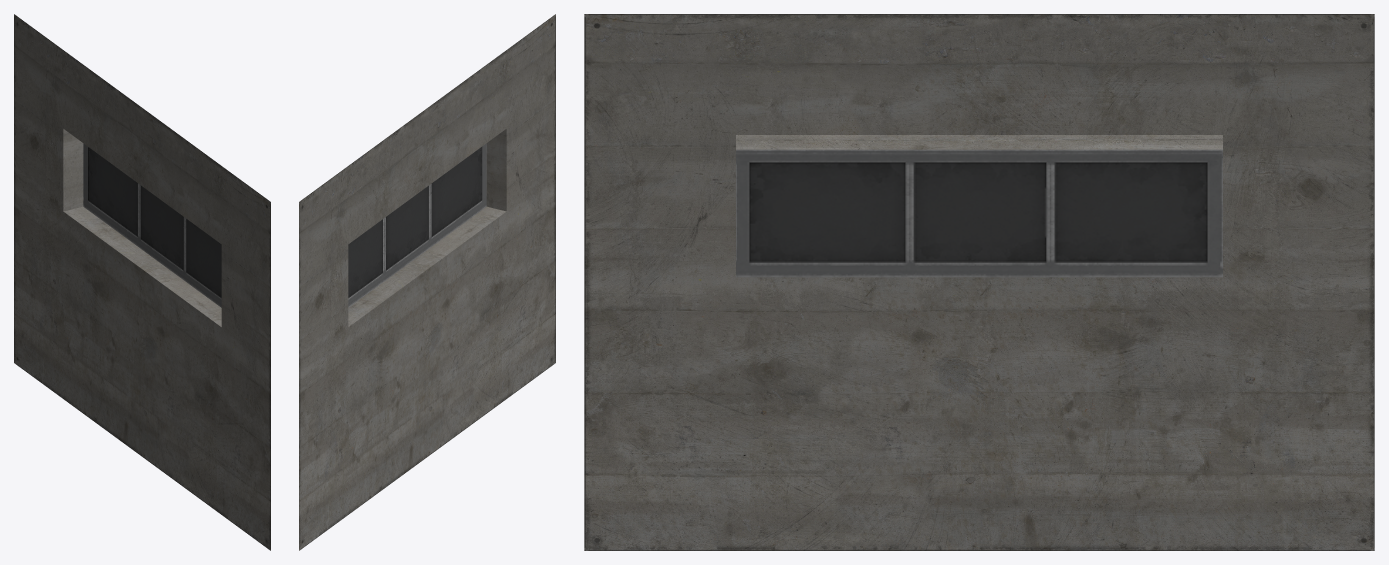
File: CP_Windows_B_4x3m_02.fbx
3 views of the same model, side by side, from view 1: azimuth 30°, elevation 25°; view 2: azimuth 150°, elevation 25°; view 3: azimuth 270°, elevation 25° (orthographic). The views are drawn at different scales.
Parts seen in each view (by area): view 1: CP_Windows_B_4x3m_02; view 2: CP_Windows_B_4x3m_02; view 3: CP_Windows_B_4x3m_02.
Boxes of the visible parts, x1,y1,x2,y2 form: CP_Windows_B_4x3m_02: (14,14,270,550); CP_Windows_B_4x3m_02: (299,14,555,550); CP_Windows_B_4x3m_02: (584,14,1374,550).
Bounding box in the file's own units: 17.89 × 300 × 400.
